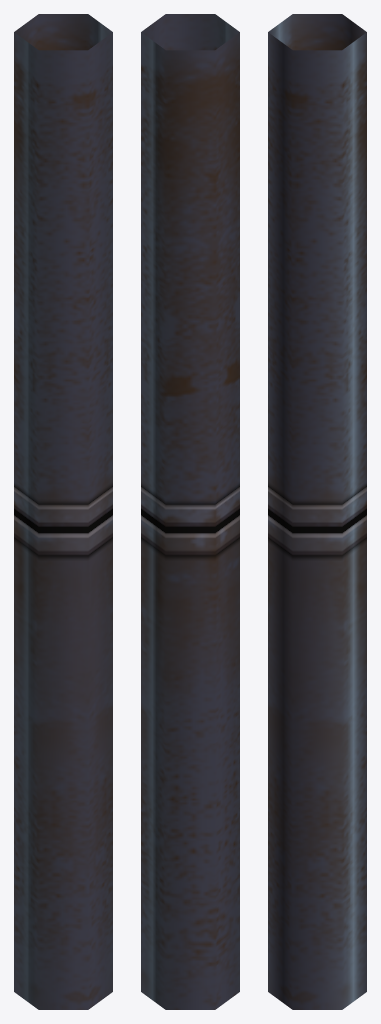
Rendered from rainwaterPipe_middle.fbx.
3 renders of one model, left to right at view 1: azimuth 30°, elevation 25°; view 2: azimuth 210°, elevation 25°; view 3: azimuth 330°, elevation 25°, orthographic.
Visible parts, largest first — view 1: rainwaterPipe_middle; view 2: rainwaterPipe_middle; view 3: rainwaterPipe_middle.
Boxes of the visible parts, <box> form: rainwaterPipe_middle: <box>14,14,112,1009</box>; rainwaterPipe_middle: <box>141,14,239,1009</box>; rainwaterPipe_middle: <box>268,14,366,1009</box>.
Bounding box in the file's own units: 24.28 × 300 × 28.04.
